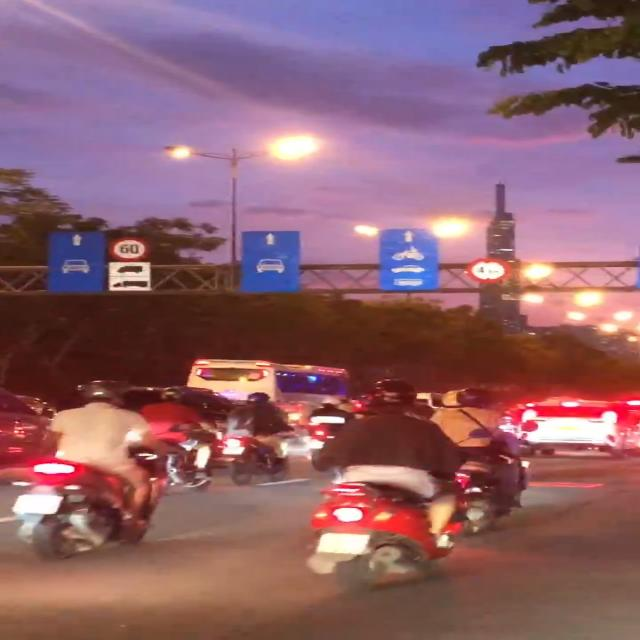Bien bao han che chieu cao: (468, 255, 514, 288)
Bien bao toc do toi da cho phep: (110, 233, 150, 264)
